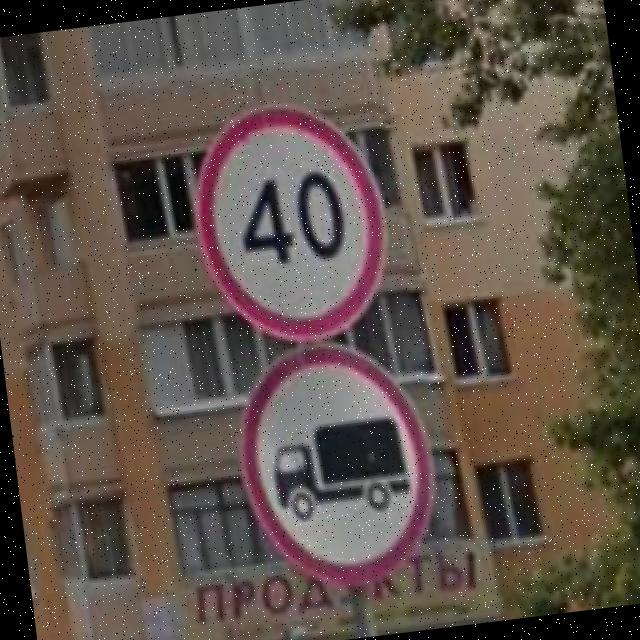Ograniczenie predkosci do 40: (185, 92, 402, 354)
